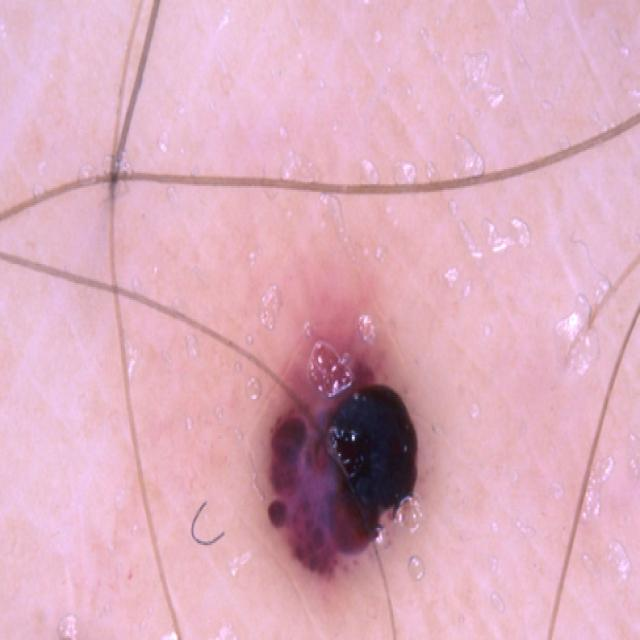Vascular Lesions: (190, 292, 556, 640)
